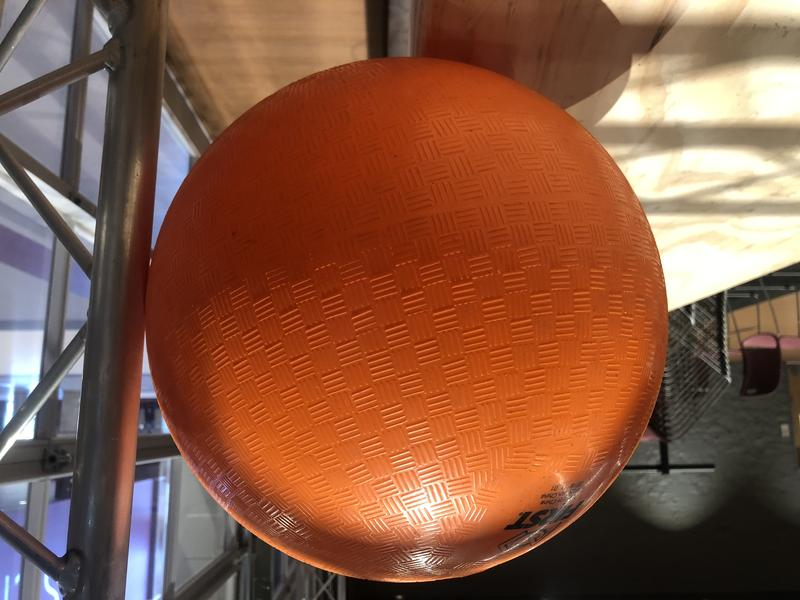ball: (144, 57, 671, 582)
